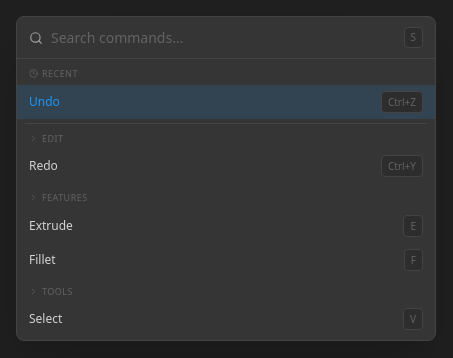
Scenario: CommandPalette › filters commands by search query
Step 1. Type "extr" into the field with placeholder "Search commands…" → (223, 38), box [51,28,396,48]
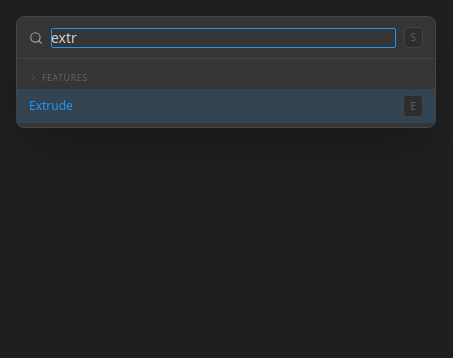
Expected: the text "Extrude" is shown, [29,96,73,114]
Now the button "Fillet" is gone
Now the button "Redo" is gone
